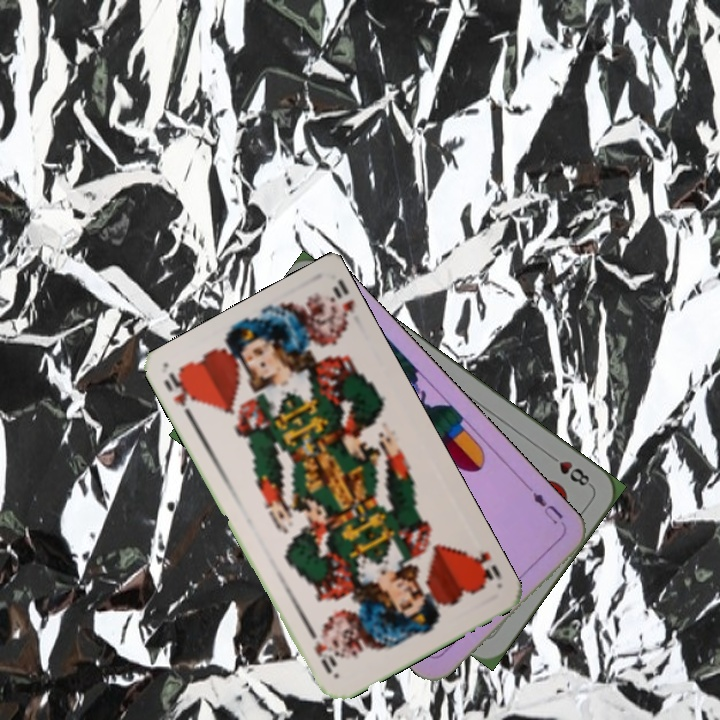EU: (524, 482, 566, 527)
H8: (544, 449, 595, 490)
HO: (160, 366, 198, 425), (466, 548, 505, 590)
